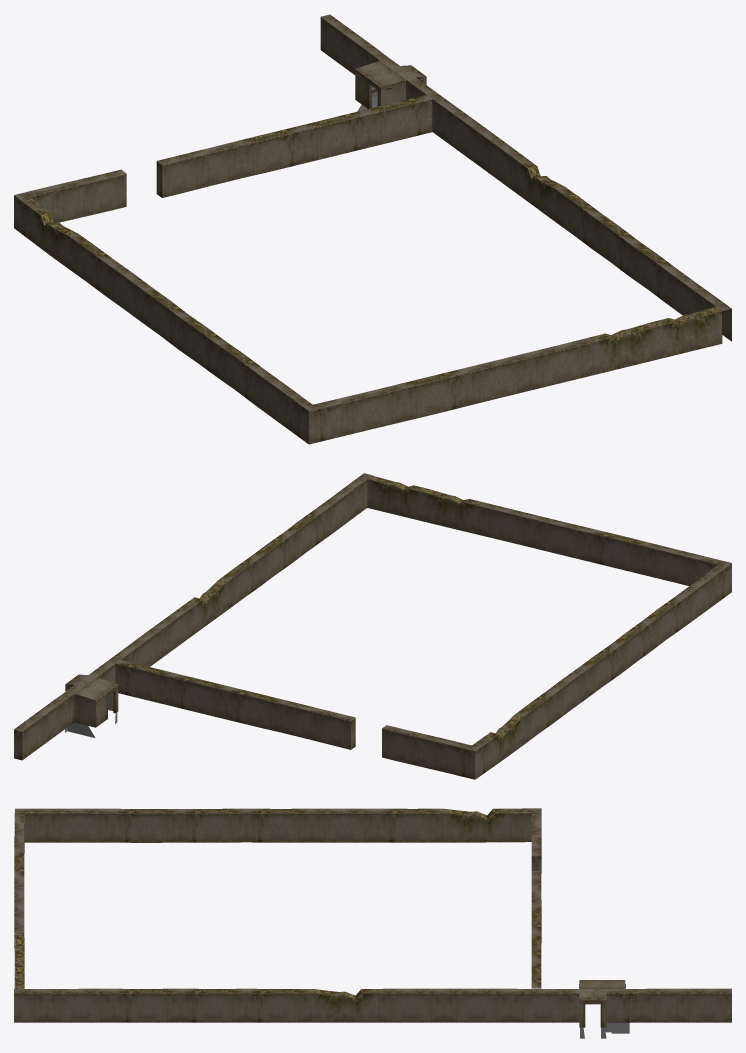
File: WuWall.obj
3 views of the same model, one above another, from view 1: azimuth 30°, elevation 25°; view 2: azimuth 150°, elevation 25°; view 3: azimuth 270°, elevation 25° (orthographic). The views are drawn at different scales.
Visible parts, largest first — view 1: SWuHouseWall-00.SWuHouseWall-00_SWuHouseWall-00; view 2: SWuHouseWall-00.SWuHouseWall-00_SWuHouseWall-00; view 3: SWuHouseWall-00.SWuHouseWall-00_SWuHouseWall-00.
Part boxes in pixels (x1,y1,x2,y2): SWuHouseWall-00.SWuHouseWall-00_SWuHouseWall-00: (14,14,731,444); SWuHouseWall-00.SWuHouseWall-00_SWuHouseWall-00: (14,473,731,779); SWuHouseWall-00.SWuHouseWall-00_SWuHouseWall-00: (14,808,731,1038).
Bounding box in the file's own units: 1.25 × 0.1276 × 2.
16 materials, 16 textured.
